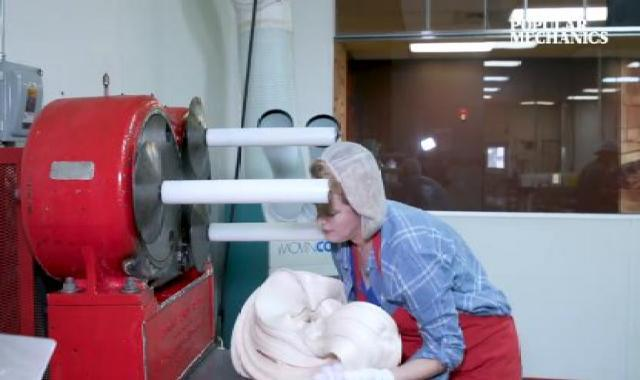Apron: (350, 237, 534, 380)
Glove: (313, 361, 399, 380)
Hairnet: (333, 136, 399, 245)
Mask: (315, 233, 371, 264)
